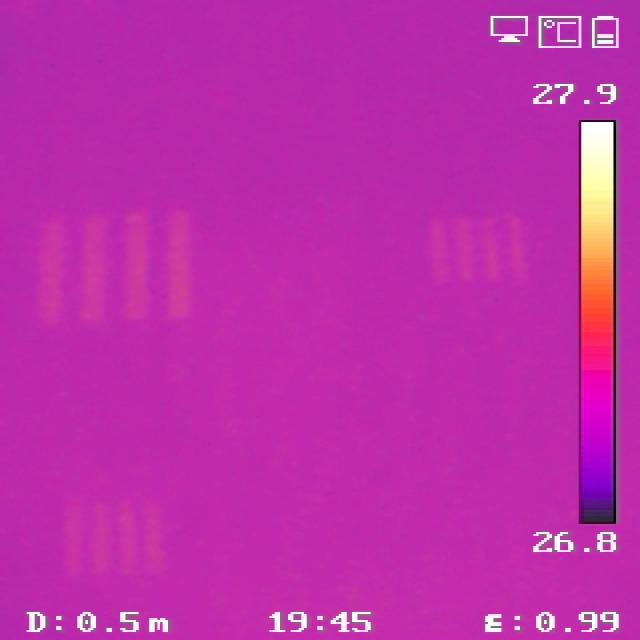Distinguishable 4-bar target: (40, 214, 200, 320)
threshold 4-bar target: (56, 500, 171, 566), (434, 211, 534, 277)
